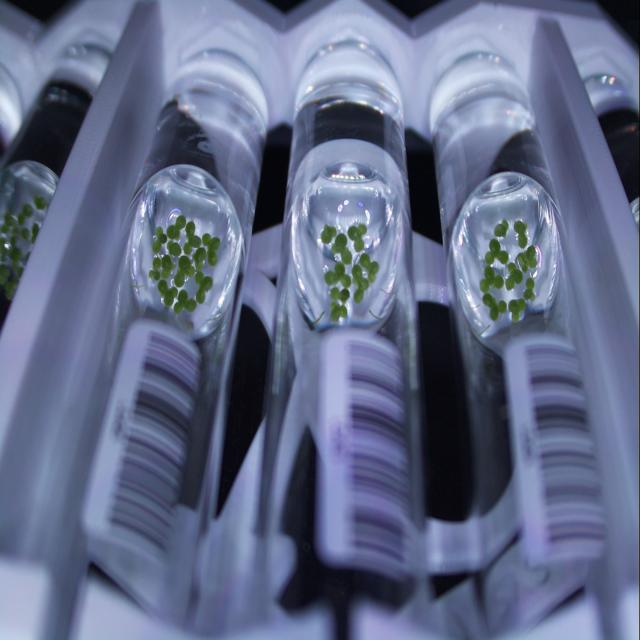Lemna-Gibba: (354, 255, 369, 304), (324, 262, 351, 289), (480, 265, 504, 294), (174, 255, 195, 287), (485, 238, 509, 265), (182, 222, 201, 255), (482, 294, 506, 320), (516, 245, 539, 272), (332, 233, 352, 264), (202, 233, 220, 267), (359, 254, 379, 282), (174, 289, 196, 314), (195, 272, 212, 304), (348, 223, 366, 252), (159, 280, 178, 307), (505, 262, 522, 290), (166, 215, 185, 240), (152, 227, 168, 254), (509, 297, 526, 322), (514, 220, 528, 248), (330, 287, 350, 306), (194, 247, 208, 270), (330, 305, 348, 322), (162, 257, 175, 279), (149, 257, 161, 280), (321, 225, 336, 243), (494, 220, 509, 238), (524, 277, 535, 300), (168, 242, 181, 257), (208, 252, 213, 263)
